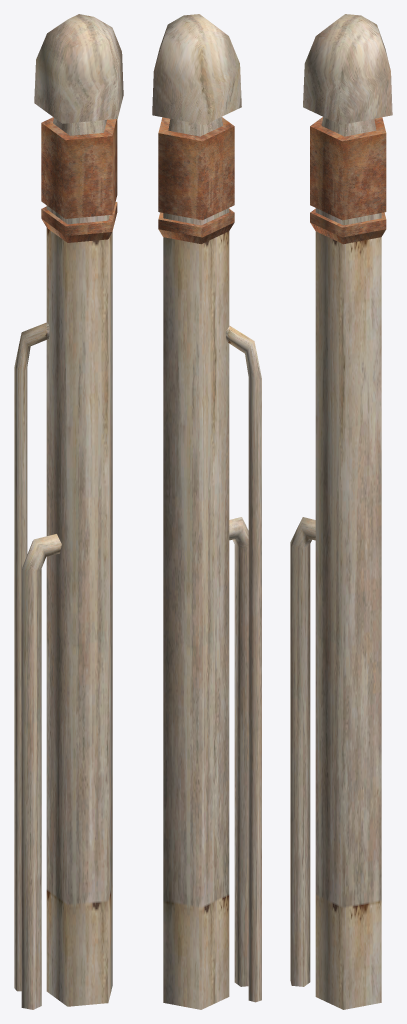
The model's file is thm_tato_debris_s03_l1.fbx.
3 views of the same model, side by side, from view 1: azimuth 30°, elevation 25°; view 2: azimuth 210°, elevation 25°; view 3: azimuth 330°, elevation 25° (orthographic).
Visible parts, largest first — view 1: mesh_node; view 2: mesh_node; view 3: mesh_node.
Boxes of the visible parts, x1,y1,x2,y2 form: mesh_node: [14, 14, 123, 1009]; mesh_node: [152, 14, 261, 1009]; mesh_node: [290, 14, 392, 1009].
Bounding box in the file's own units: 0.4615 × 4.21 × 0.3586.
2 materials, 2 textured.
